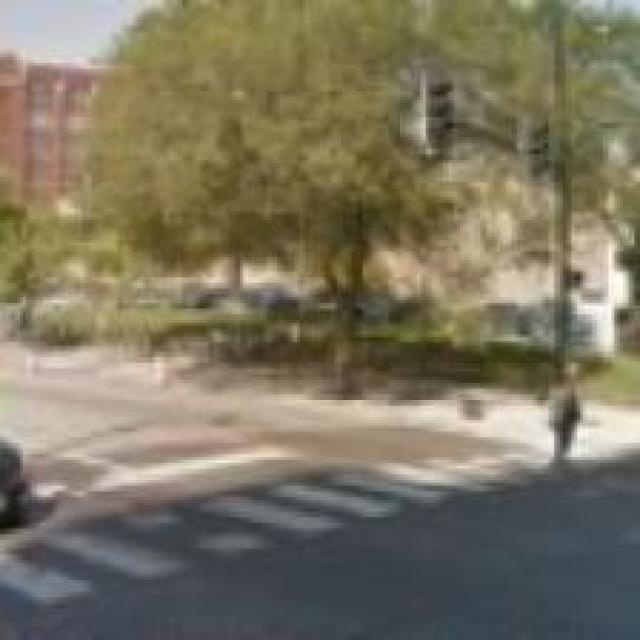walk-crossing: (15, 443, 632, 602)
